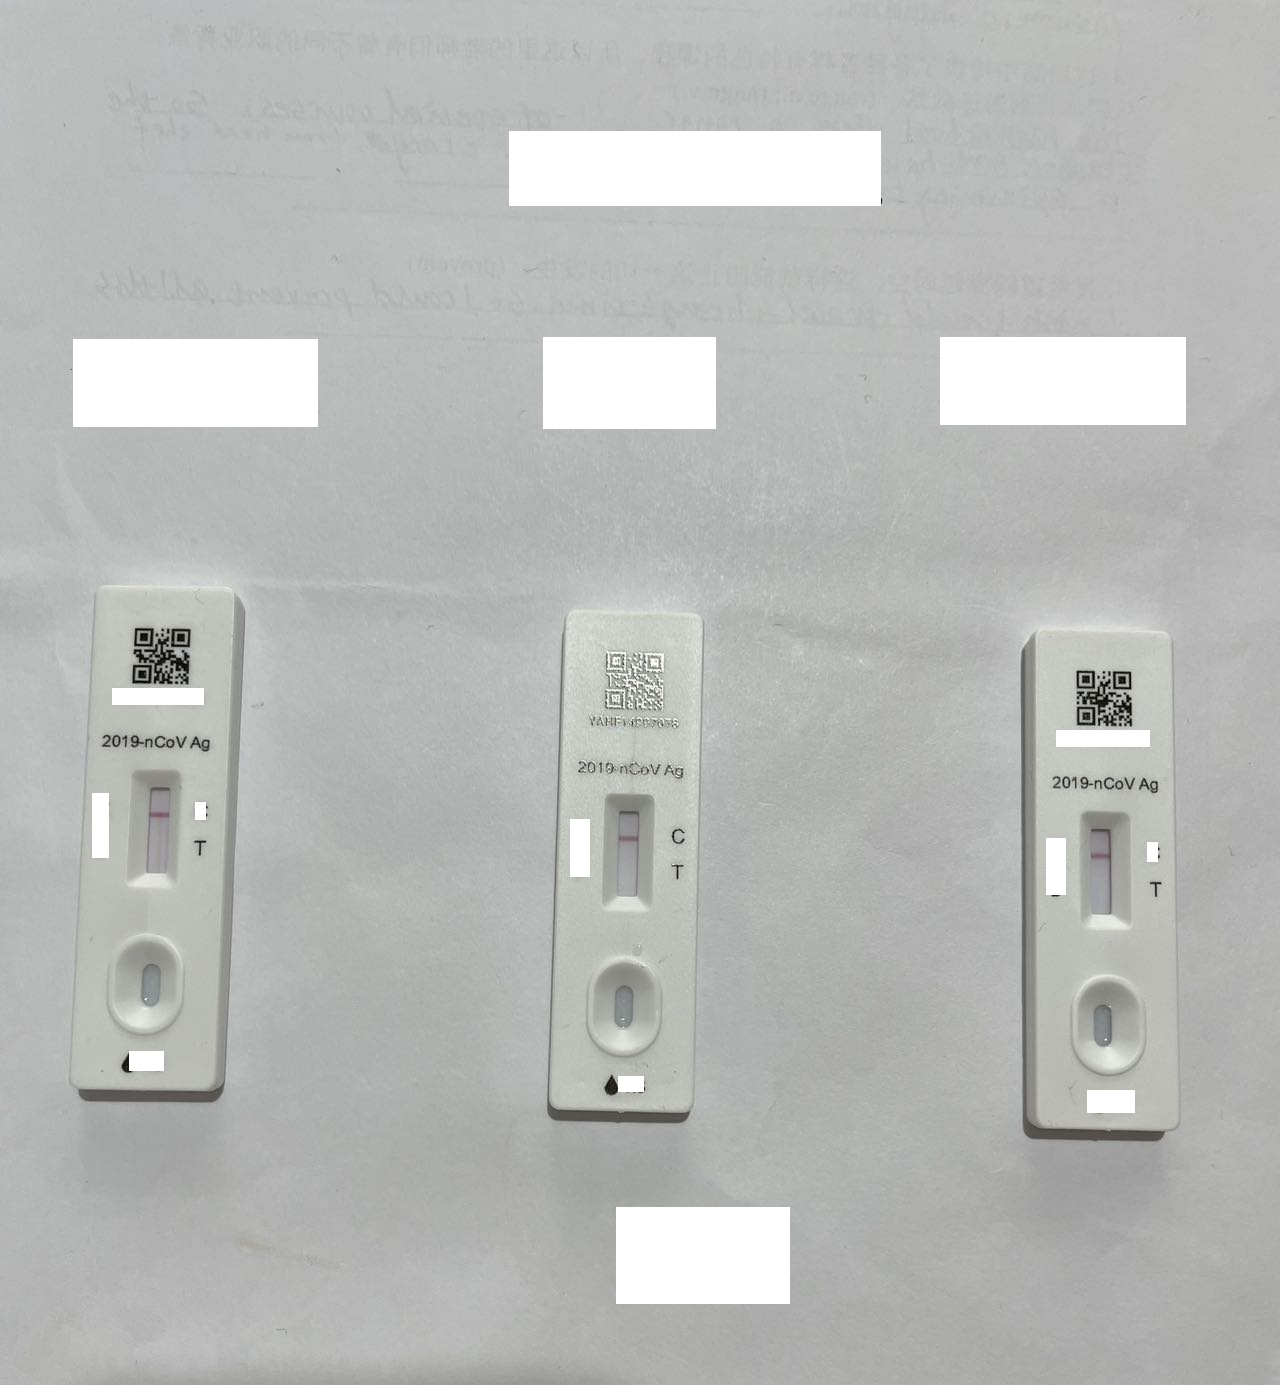negative: (1080, 810, 1130, 928), (128, 769, 179, 886), (604, 793, 649, 908)
